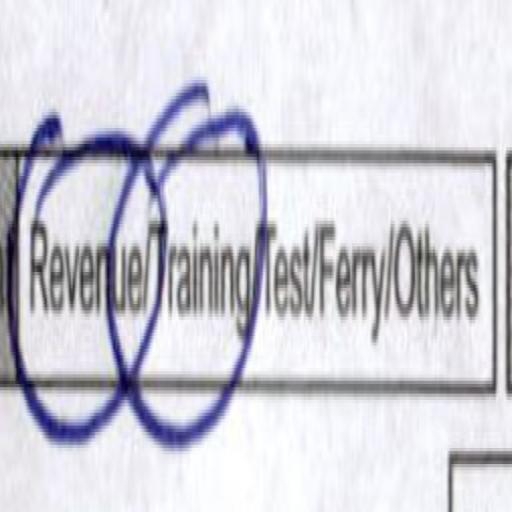check: (22, 124, 156, 455), (156, 76, 260, 440)
